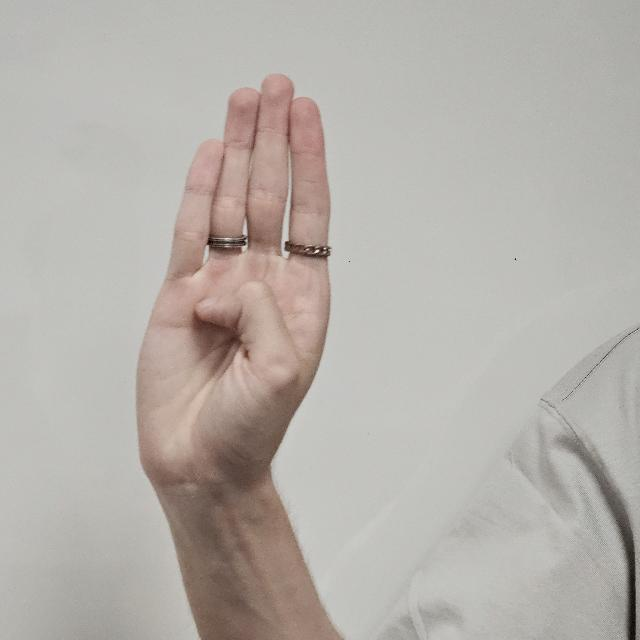Baixo: (132, 51, 328, 505)
